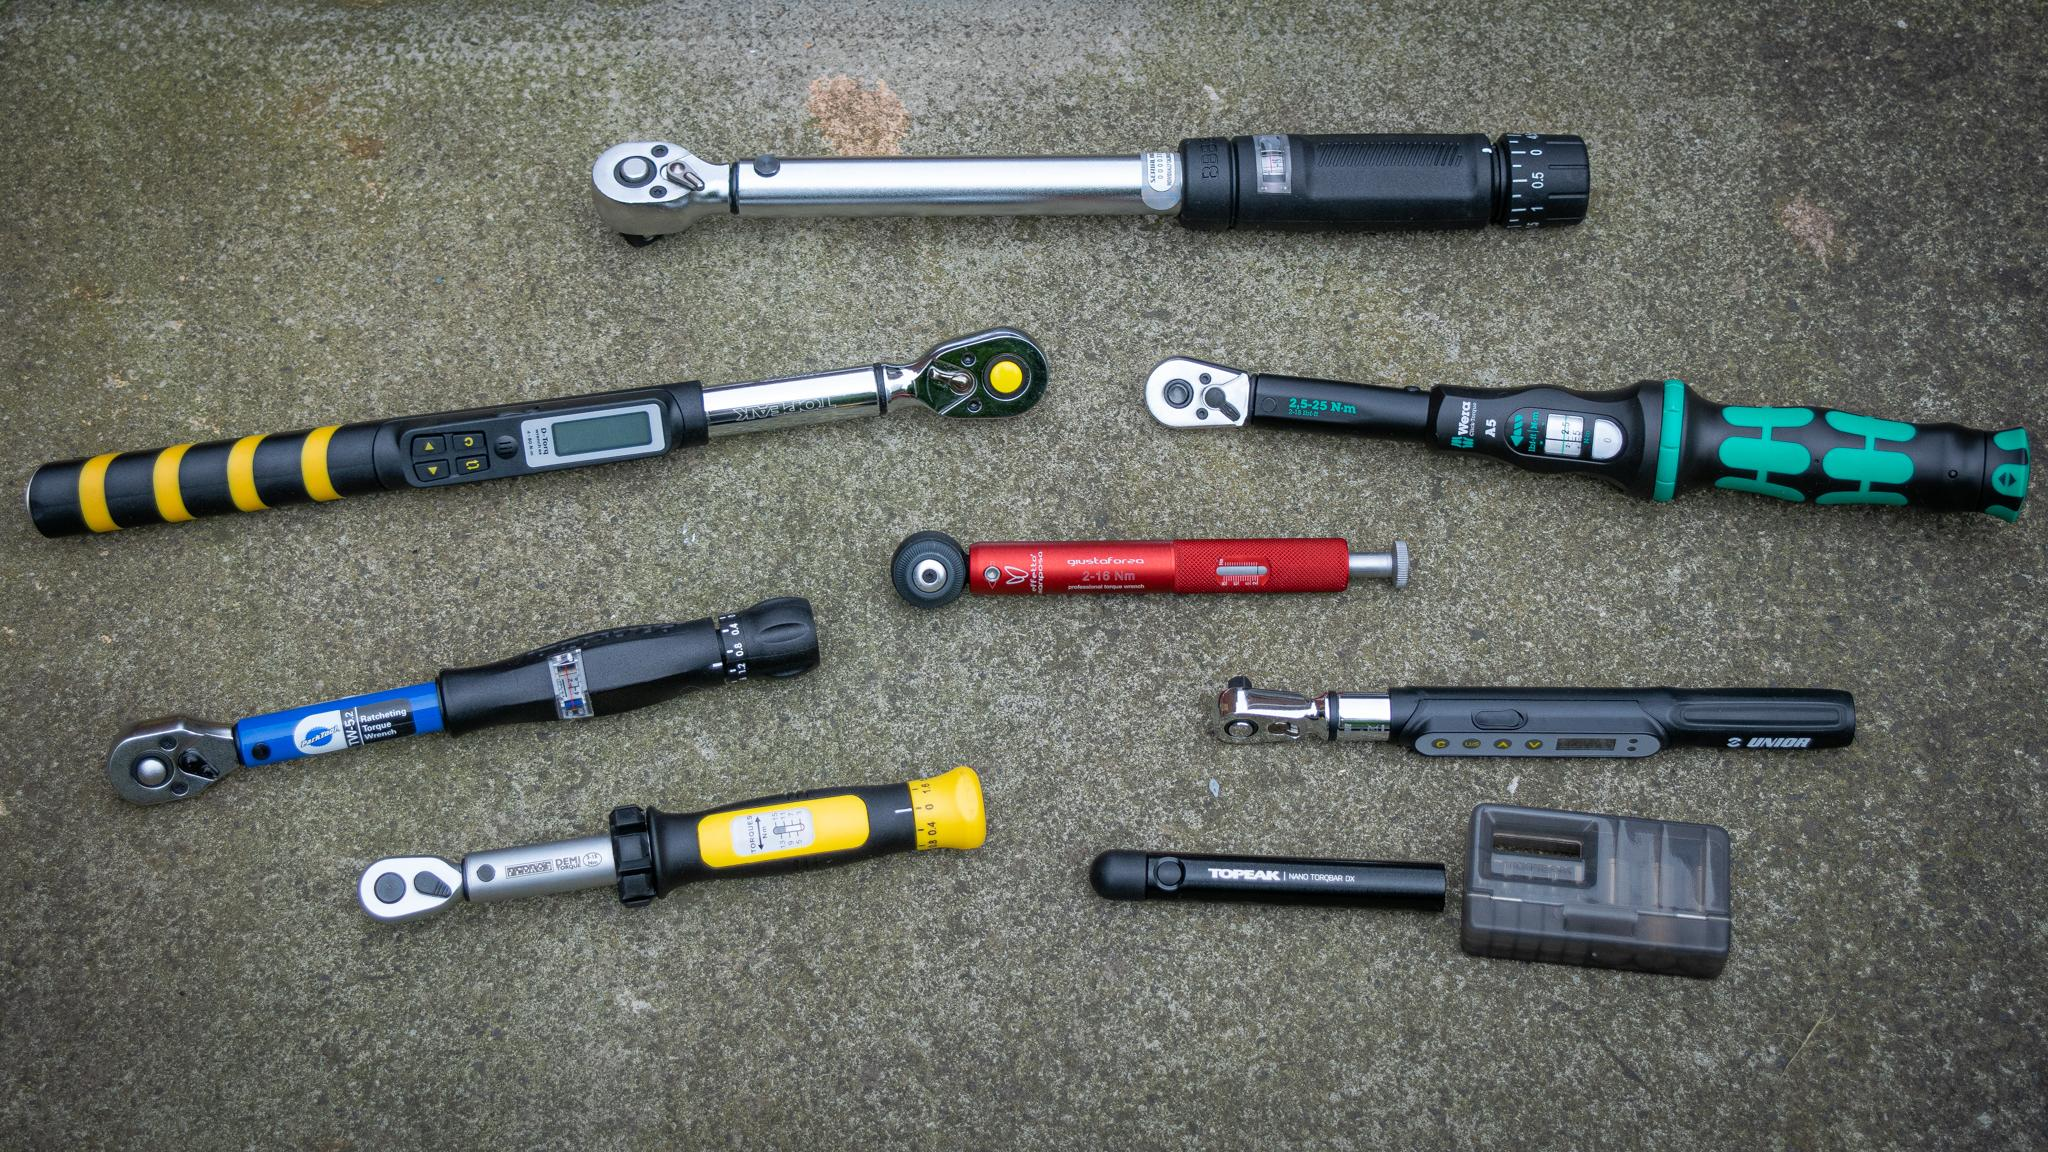Tool: (909, 325, 1052, 425), (111, 712, 235, 817), (1217, 658, 1326, 767), (599, 141, 724, 218), (356, 848, 464, 934), (1145, 356, 1253, 437)
